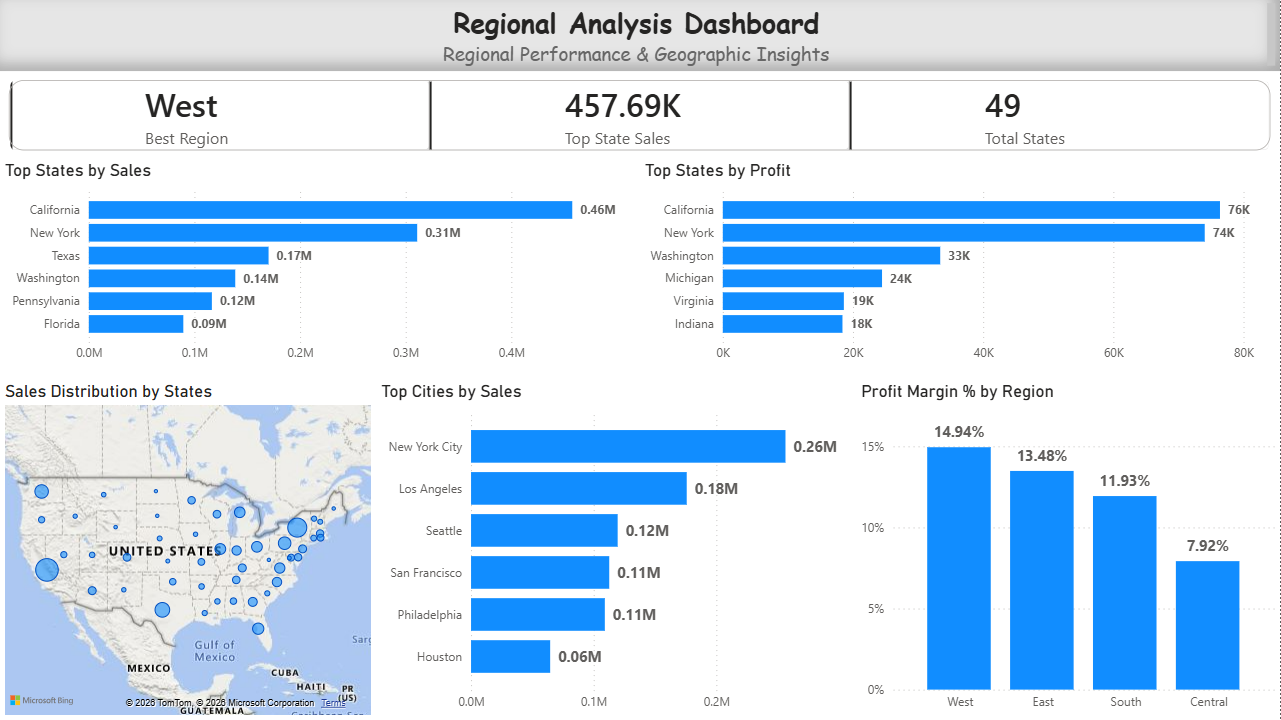

This screenshot's page, from the dashboard's own definition file:
{"tool":"powerbi","page":{"name":"Regional Analysis","canvas":[1280,720],"ordinal":2},"visuals":[{"type":"cardVisual","fields":{"Data":["Sales_Data.Best Region","Sales_Data.Top State Sales","Sales_Data.Total States"]},"box":[0,71.7,1280,88.3],"z":0},{"type":"textbox","box":[0,0,1280,71.2],"z":1000},{"type":"clusteredBarChart","title":"Top States by Sales","fields":{"Category":["Sales_Data.State"],"Y":["Sales_Data.Total Sales"]},"box":[0,160,635,211.7],"z":2000},{"type":"clusteredBarChart","title":"Top States by Profit","fields":{"Category":["Sales_Data.State"],"Y":["Sales_Data.Total Profit"]},"box":[640,160,640,211.7],"z":3000},{"type":"clusteredBarChart","title":"Top Cities by Sales","fields":{"Category":["Sales_Data.City"],"Y":["Sales_Data.Total Sales"]},"box":[375.7,381.4,480,338.6],"z":4000},{"type":"clusteredColumnChart","fields":{"Category":["Sales_Data.Region"],"Y":["Sales_Data.Profit Margin %"]},"box":[855.7,381.4,424.3,338.6],"z":5000},{"type":"map","title":"Sales Distribution by States","fields":{"Category":["Sales_Data.State"],"Size":["Sales_Data.Total Sales"]},"box":[0,381.4,375.7,338.6],"z":6000}]}

Visuals, with their boxes in screenshot pixels (x1, y1, x2, y2), scaled from the page's 1280x720 canvas onto the 1281x720 screenshot:
cardVisual - Sales_Data.Best Region x Sales_Data.Top State Sales: 0,72,1280,160
textbox: 0,0,1280,71
"Top States by Sales" clusteredBarChart: 0,160,635,372
"Top States by Profit" clusteredBarChart: 640,160,1280,372
"Top Cities by Sales" clusteredBarChart: 376,381,856,719
clusteredColumnChart - Sales_Data.Region x Sales_Data.Profit Margin %: 856,381,1280,719
"Sales Distribution by States" map: 0,381,376,719
